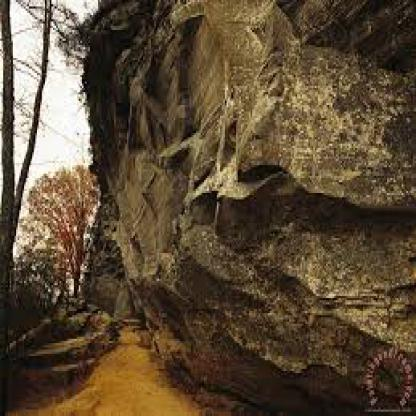Metamorphic_Quartize: (166, 178, 414, 412), (167, 0, 414, 217)
